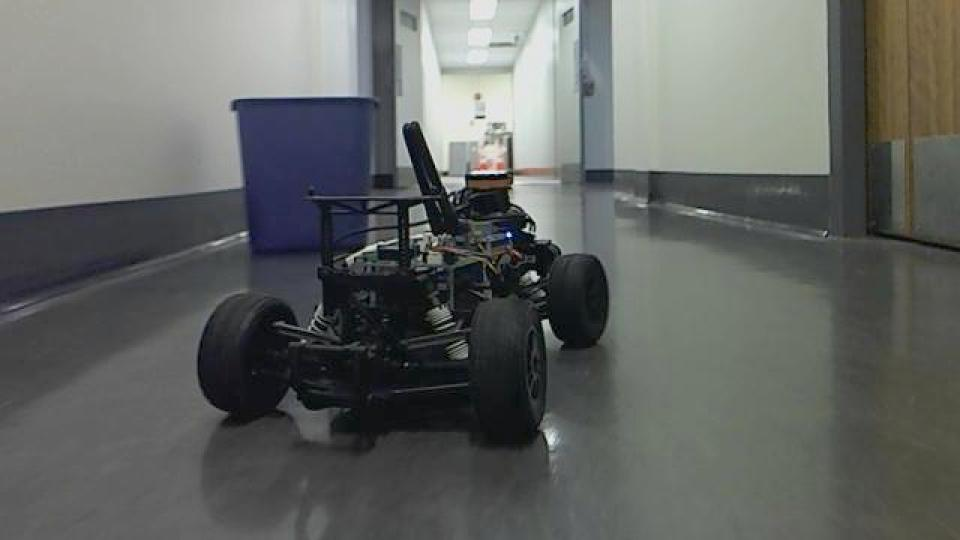car: (194, 118, 614, 444)
